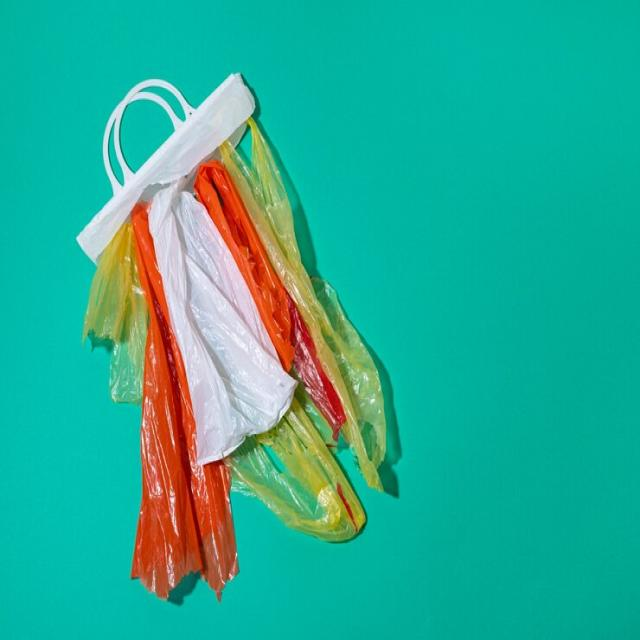plastic_bag: (44, 74, 476, 639)
